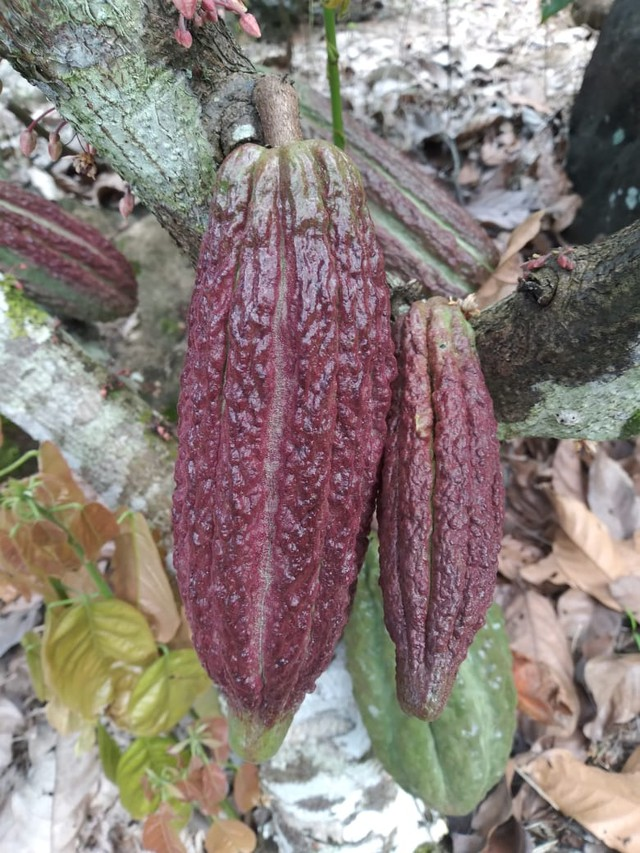Health: (158, 132, 408, 778), (373, 293, 510, 729)
